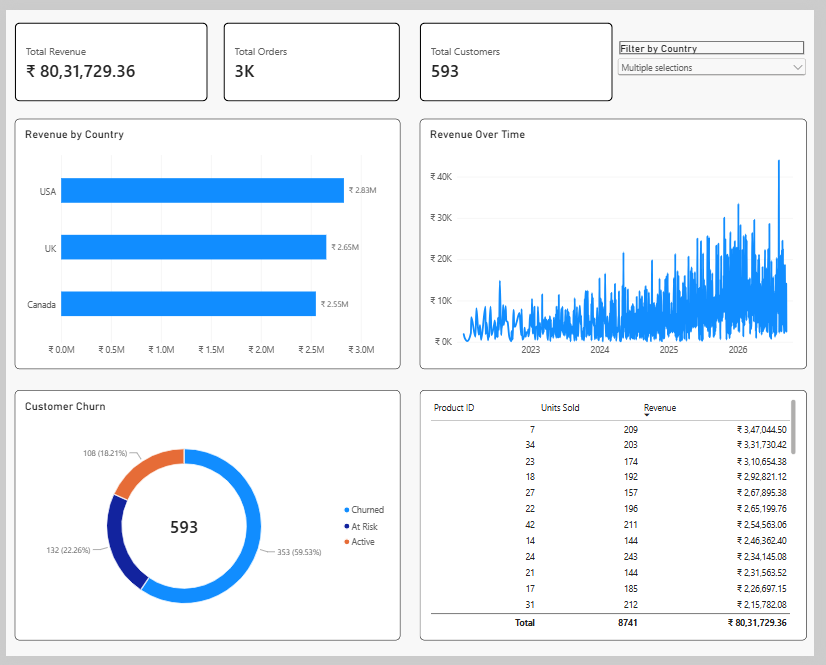

Layout of this report page (visuals, bound fields, positions):
{"tool":"powerbi","page":{"name":"Page 1","canvas":[1320,1055],"ordinal":0},"visuals":[{"type":"cardVisual","fields":{"Data":["Sum(ecommerce_db vw_ecommerce_powerbi.order_total_value)"]},"box":[13.6,20.5,315.9,129.5],"z":0},{"type":"cardVisual","fields":{"Data":["Count(ecommerce_db vw_ecommerce_powerbi.order_id)"]},"box":[354.5,20.5,288.6,129.5],"z":1000},{"type":"cardVisual","fields":{"Data":["Count(ecommerce_db vw_ecommerce_powerbi.customer_id)"]},"box":[675,20.5,315.9,129.5],"z":2000},{"type":"clusteredBarChart","title":"Revenue by Country ","fields":{"Category":["ecommerce_db vw_ecommerce_powerbi.country"],"Y":["Sum(ecommerce_db vw_ecommerce_powerbi.order_total_value)"]},"box":[13.6,177.3,629.5,409.1],"z":3000},{"type":"lineChart","title":"Revenue Over Time ","fields":{"Category":["ecommerce_db vw_ecommerce_powerbi.order_date"],"Y":["Sum(ecommerce_db vw_ecommerce_powerbi.order_total_value)"]},"box":[675,177.3,631.8,409.1],"z":4000},{"type":"donutChart","title":"Customer Churn","fields":{"Category":["ecommerce_db vw_ecommerce_powerbi.churn_status"],"Y":["Count(ecommerce_db vw_ecommerce_powerbi.customer_id)"]},"box":[13.6,620.5,629.5,409.1],"z":4001},{"type":"tableEx","fields":{"Values":["ecommerce_db vw_ecommerce_powerbi.product_id","Sum(ecommerce_db vw_ecommerce_powerbi.quantity)","Sum(ecommerce_db vw_ecommerce_powerbi.order_total_value)"]},"box":[675,620.5,631.8,409.1],"z":4002},{"type":"slicer","fields":{"Values":["ecommerce_db vw_ecommerce_powerbi.country"]},"box":[992.9,50,316.7,71.4],"z":4003}]}

Visuals, with their boxes in screenshot pixels (x1, y1, x2, y2), scaled from the page's 1320x1055 canvas onto the 826x665 screenshot:
cardVisual - Sum(ecommerce_db vw_ecommerce_powerbi.order_total_value): crop(9, 13, 206, 95)
cardVisual - Count(ecommerce_db vw_ecommerce_powerbi.order_id): crop(222, 13, 402, 95)
cardVisual - Count(ecommerce_db vw_ecommerce_powerbi.customer_id): crop(422, 13, 620, 95)
"Revenue by Country " clusteredBarChart: crop(9, 112, 402, 370)
"Revenue Over Time " lineChart: crop(422, 112, 818, 370)
"Customer Churn" donutChart: crop(9, 391, 402, 649)
tableEx - ecommerce_db vw_ecommerce_powerbi.product_id x Sum(ecommerce_db vw_ecommerce_powerbi.quantity): crop(422, 391, 818, 649)
slicer - ecommerce_db vw_ecommerce_powerbi.country: crop(621, 32, 819, 77)
